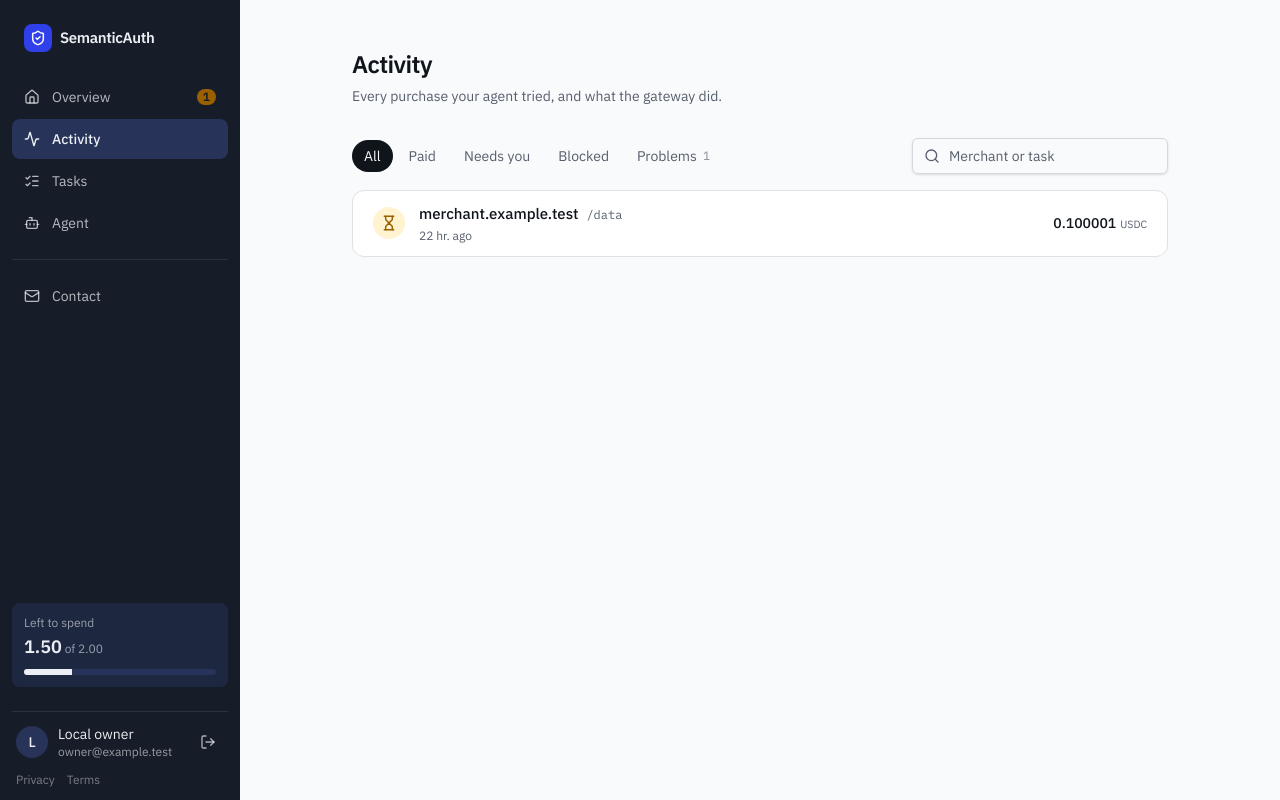
Test: activity › searches by merchant
Expected: the link "merchant.example.test" is shown, [419,203,578,226]
Step 1. Type "nothing" into the search field named "Search activity" → (1040, 156), box [912,138,1168,174]
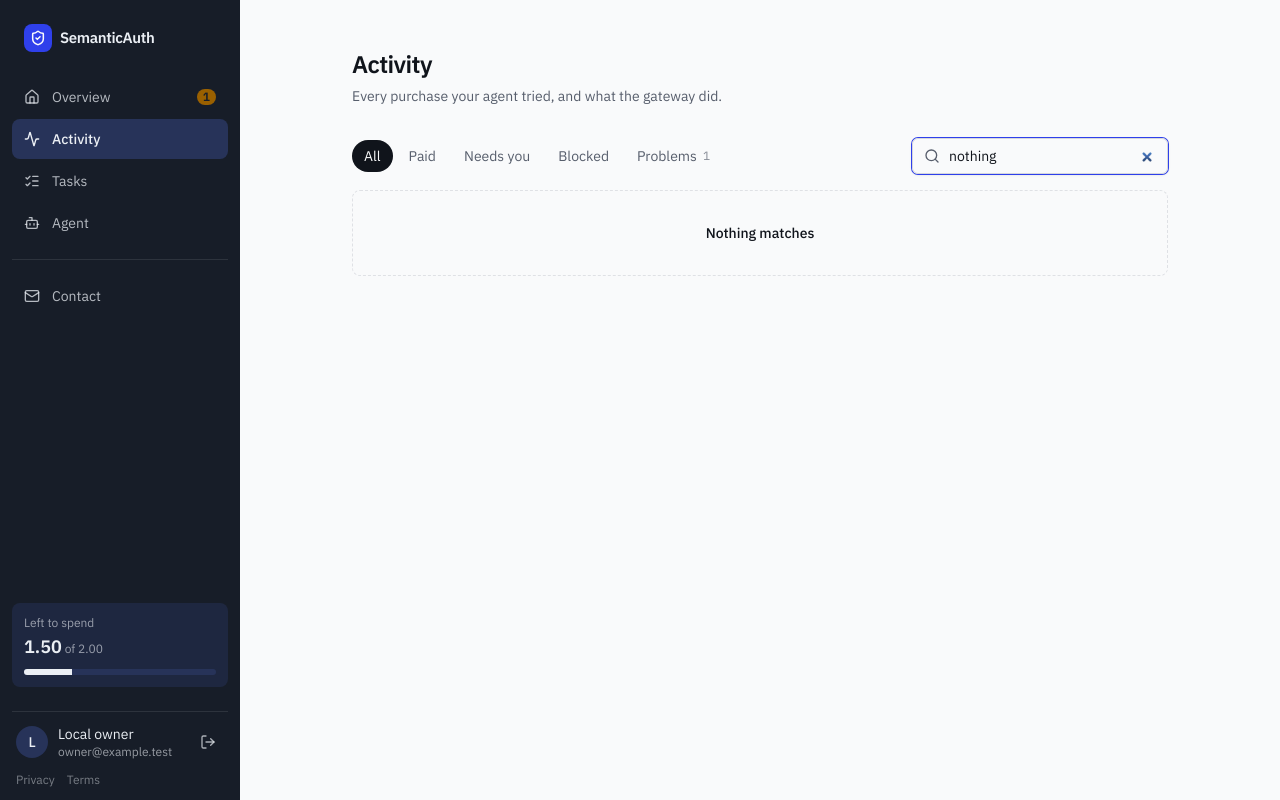
Expected: the text "Nothing matches" is shown, [706,224,814,242]
